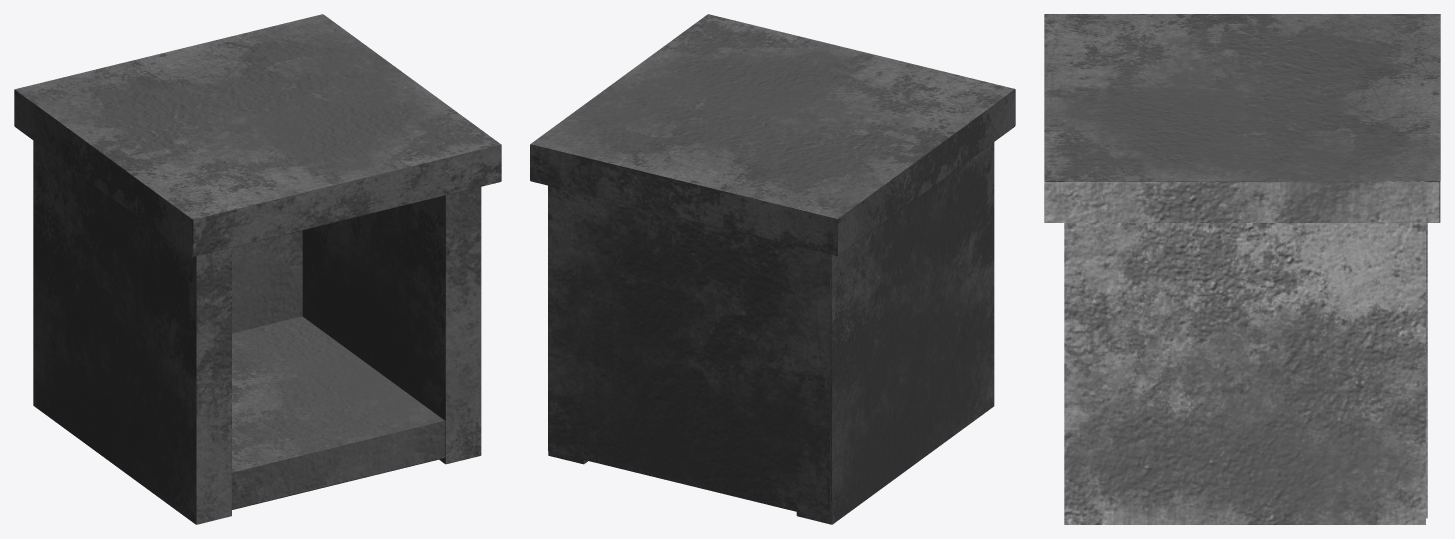
The model's file is Drawer_1.fbx.
3 views of the same model, side by side, from view 1: azimuth 30°, elevation 25°; view 2: azimuth 150°, elevation 25°; view 3: azimuth 270°, elevation 25° (orthographic). The views are drawn at different scales.
Parts seen in each view (by area): view 1: Small_Drawer_1; view 2: Small_Drawer_1; view 3: Small_Drawer_1.
Boxes of the visible parts, x1,y1,x2,y2 form: Small_Drawer_1: (14,14,501,524); Small_Drawer_1: (530,14,1015,524); Small_Drawer_1: (1044,14,1440,524).
Bounding box in the file's own units: 10.51 × 10.23 × 10.51.
Materials: 1 (1 with a texture image).
